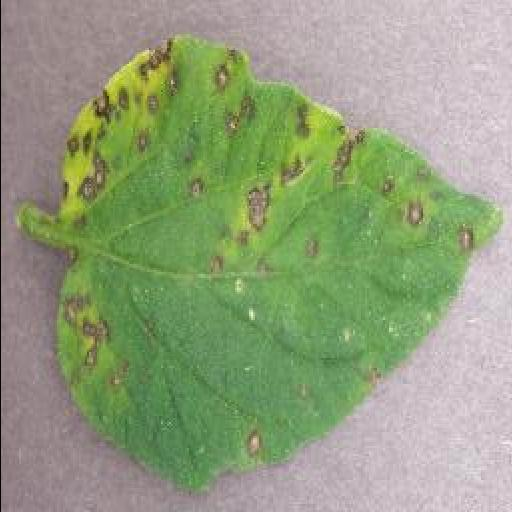disease_tomato: (56, 38, 502, 490)
